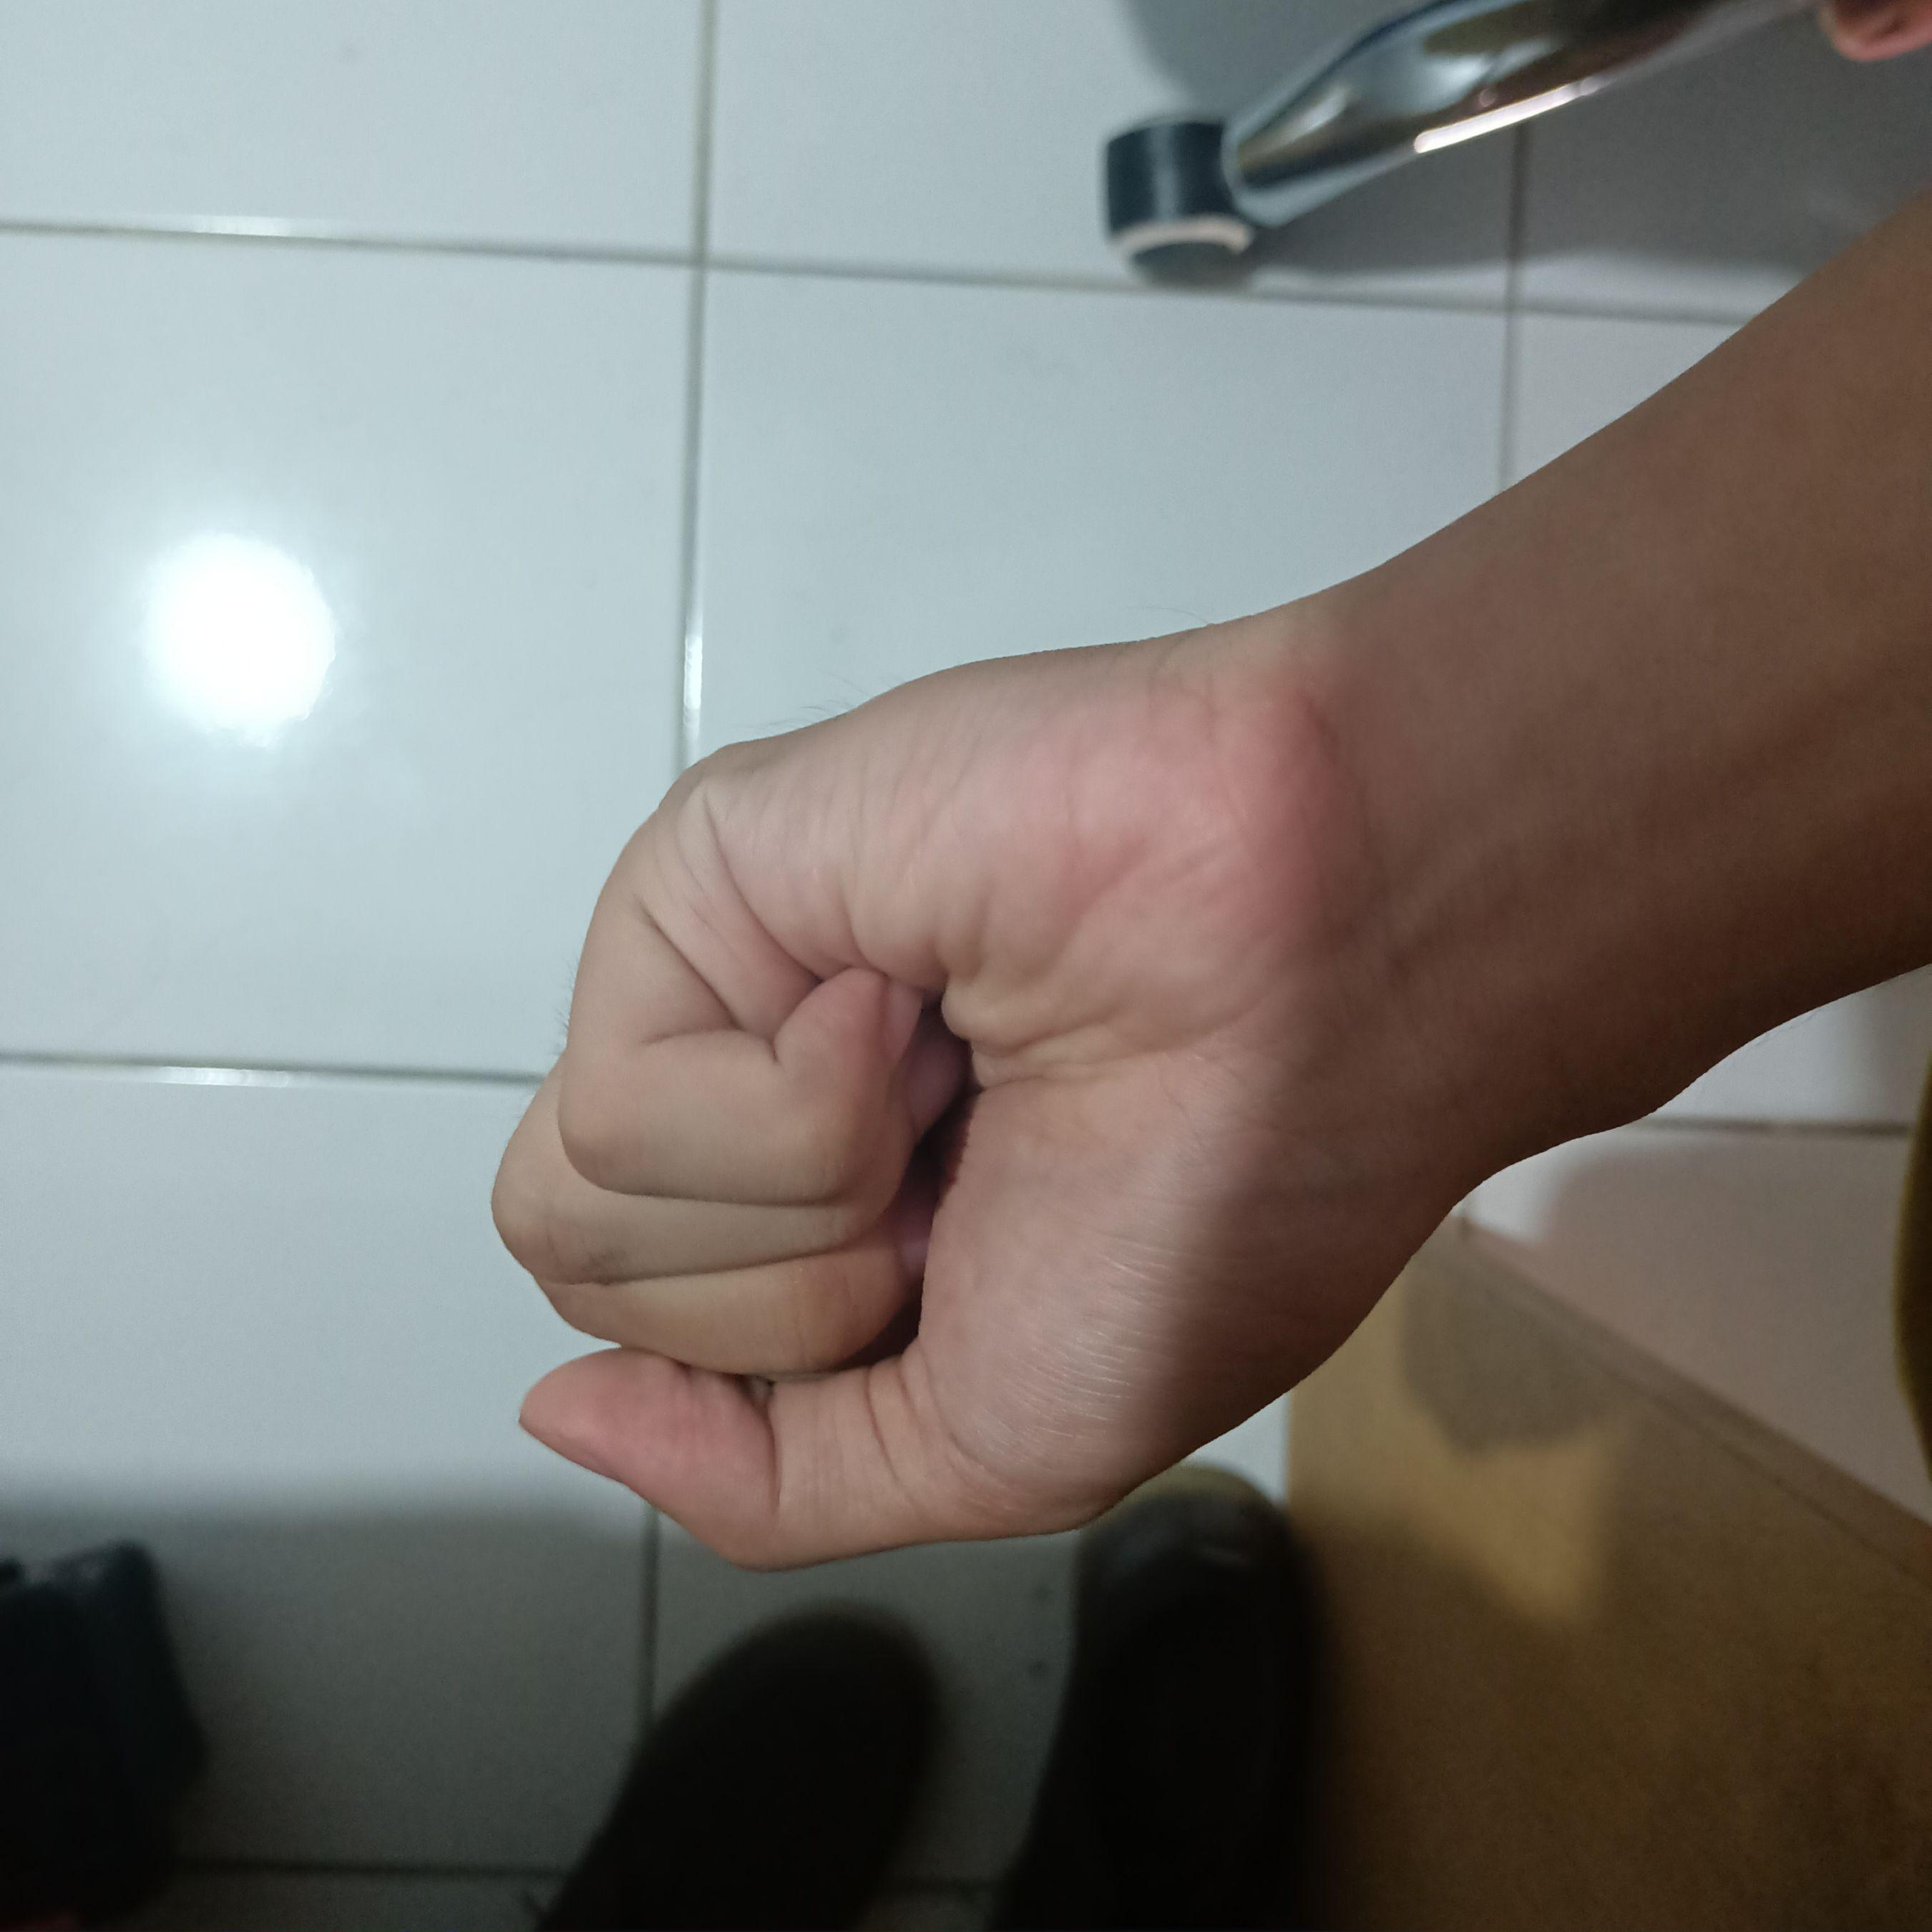rock: (453, 573, 1488, 1596)
